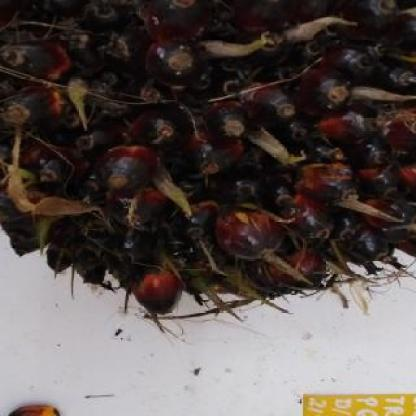Unripe: (0, 0, 416, 302)
